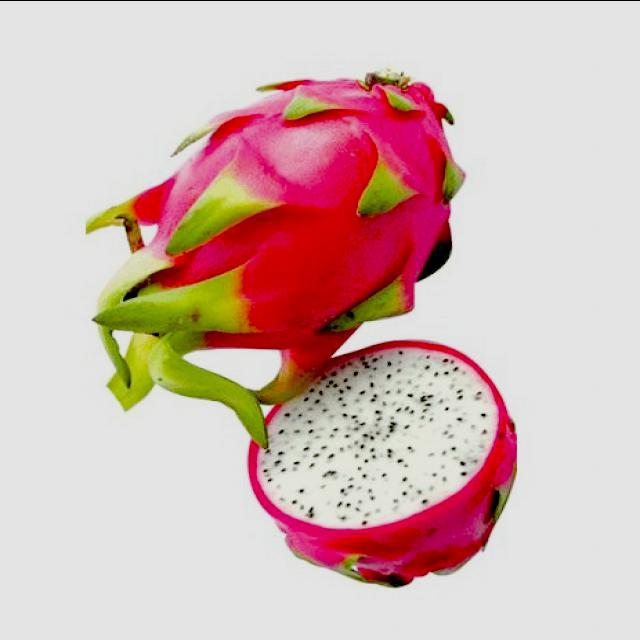trang: (83, 70, 465, 424), (241, 335, 534, 592)
